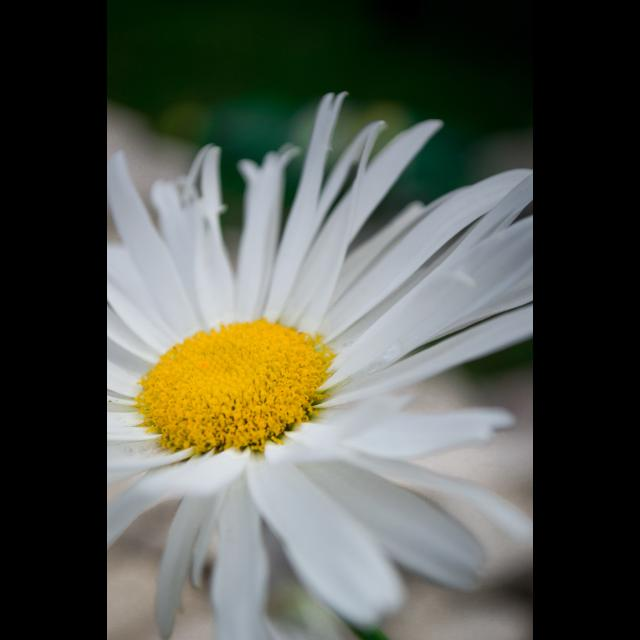Flower: (107, 95, 533, 640)
